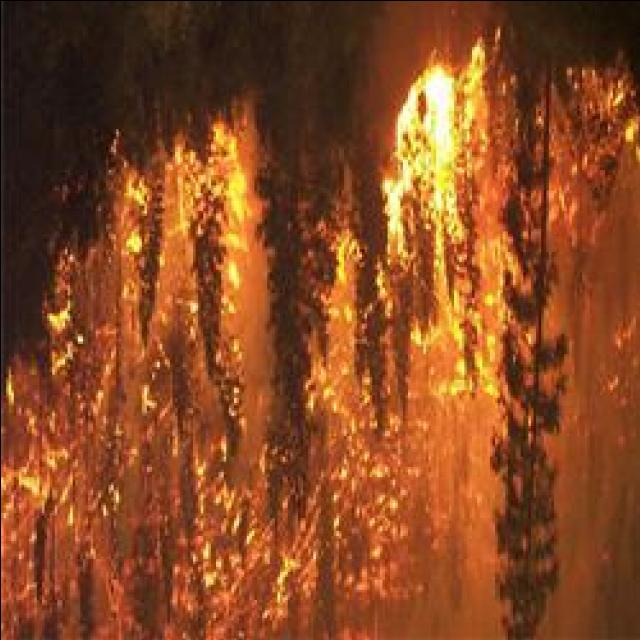fire: (398, 64, 462, 174), (222, 126, 248, 216), (6, 467, 44, 501), (42, 304, 78, 336), (385, 179, 405, 235)
